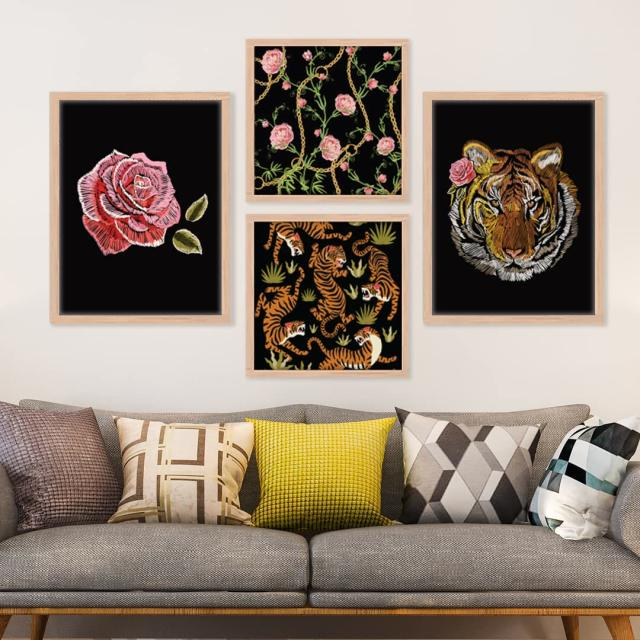painting: (48, 91, 230, 325), (423, 92, 605, 326), (248, 213, 412, 378), (246, 37, 409, 201)
